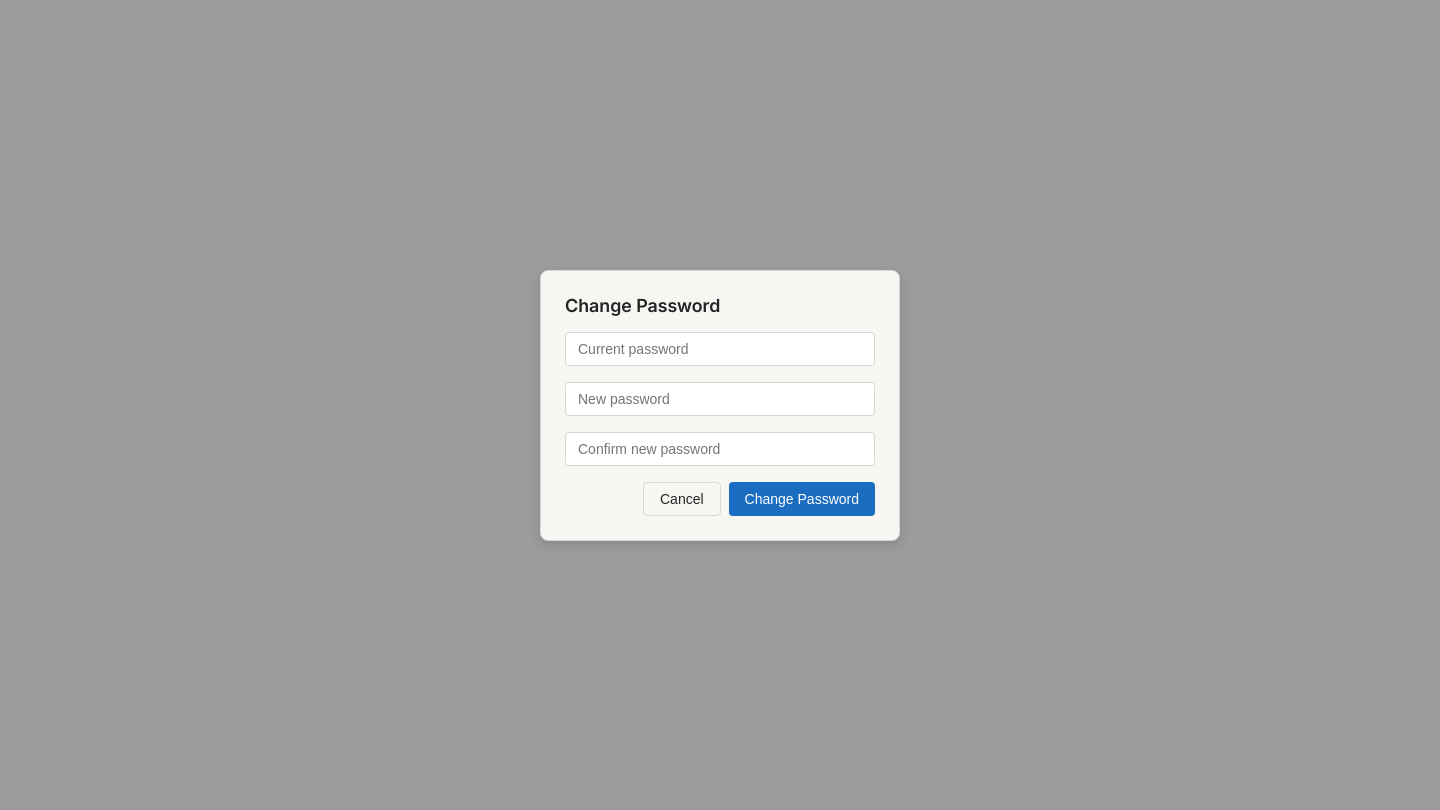
Test: ChangePasswordModal › submits current and new password via the API on a matching confirmation
This screenshot has width=1440, height=810.
Type "old-pass" into the password field with test id "change-password-current" at (720, 348), box x1=565 y1=332 x2=875 y2=366
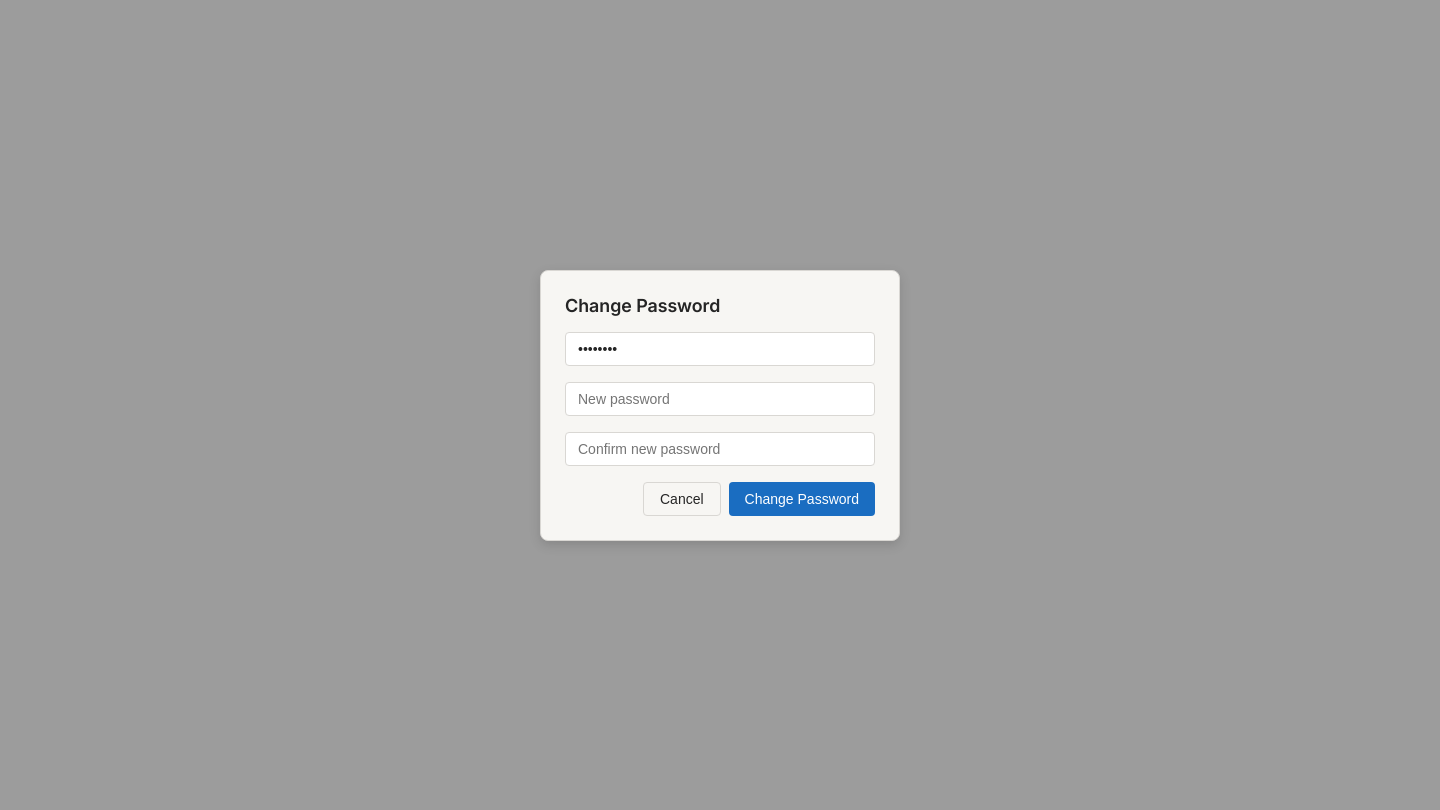
Type "new-pass-1" into the password field with test id "change-password-new" at (720, 398), box x1=565 y1=382 x2=875 y2=416
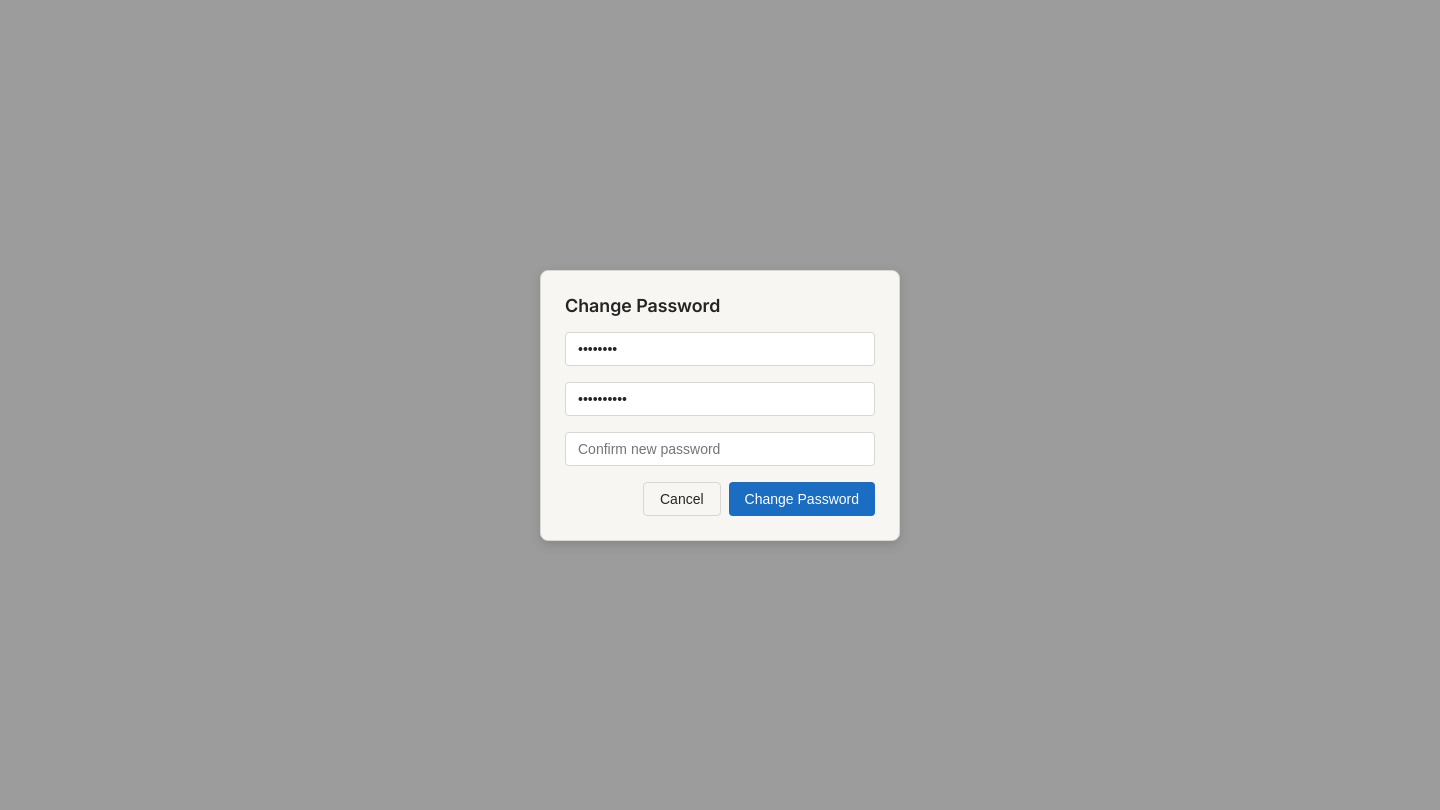
Type "new-pass-1" into the password field with test id "change-password-confirm" at (720, 448), box x1=565 y1=432 x2=875 y2=466
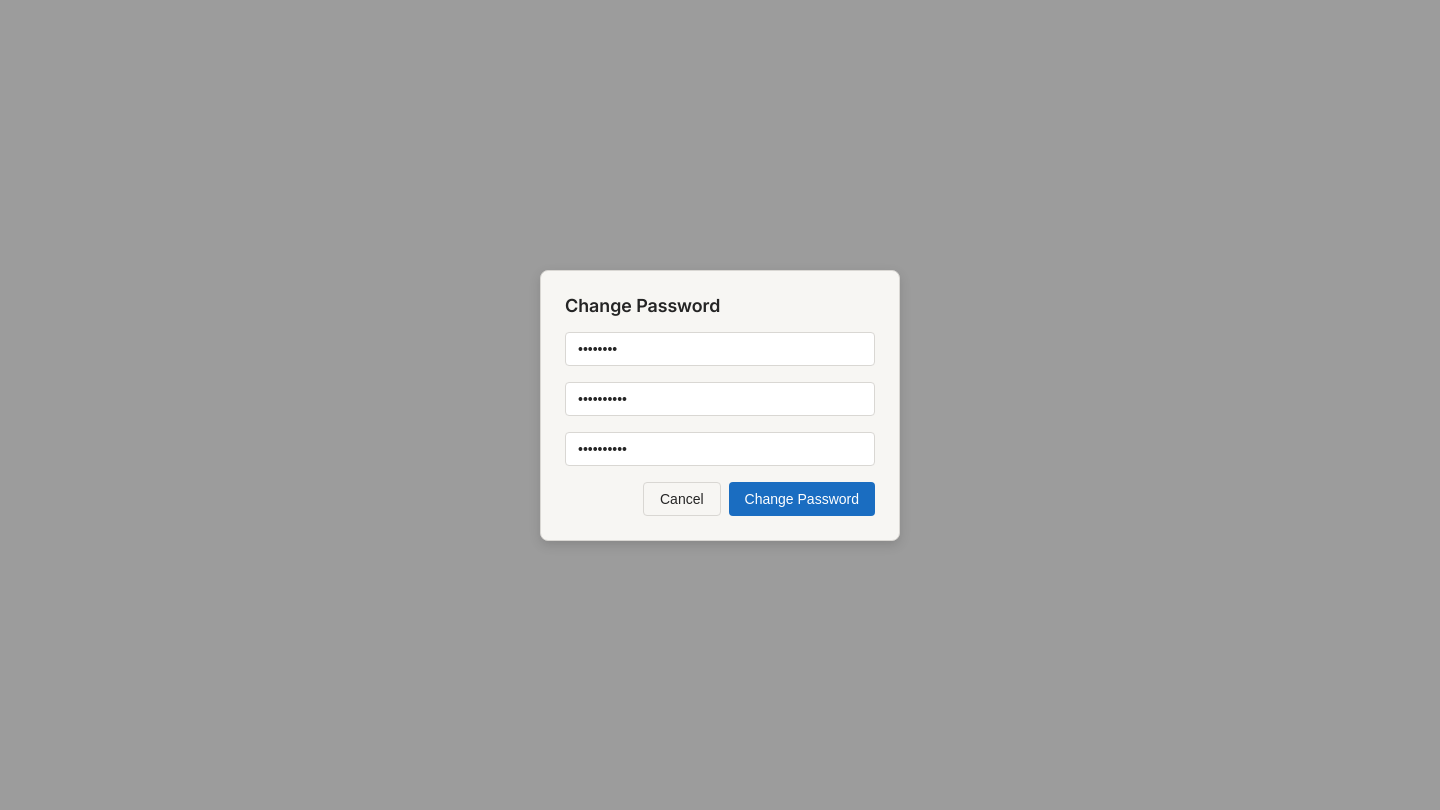
Submit the form, box x1=565 y1=332 x2=875 y2=516
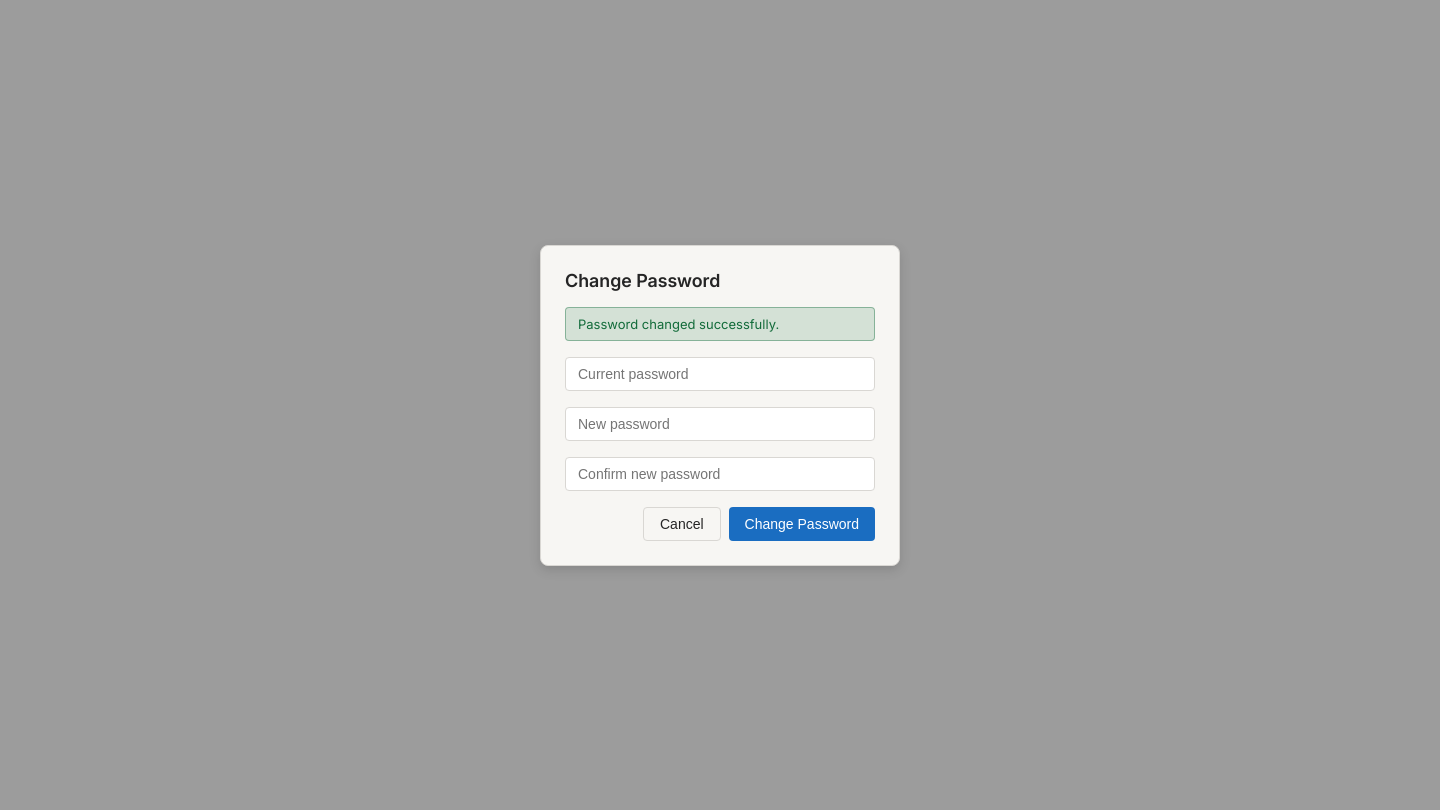
Expected: the message "Password changed successfully." is shown, x1=565 y1=306 x2=875 y2=340
